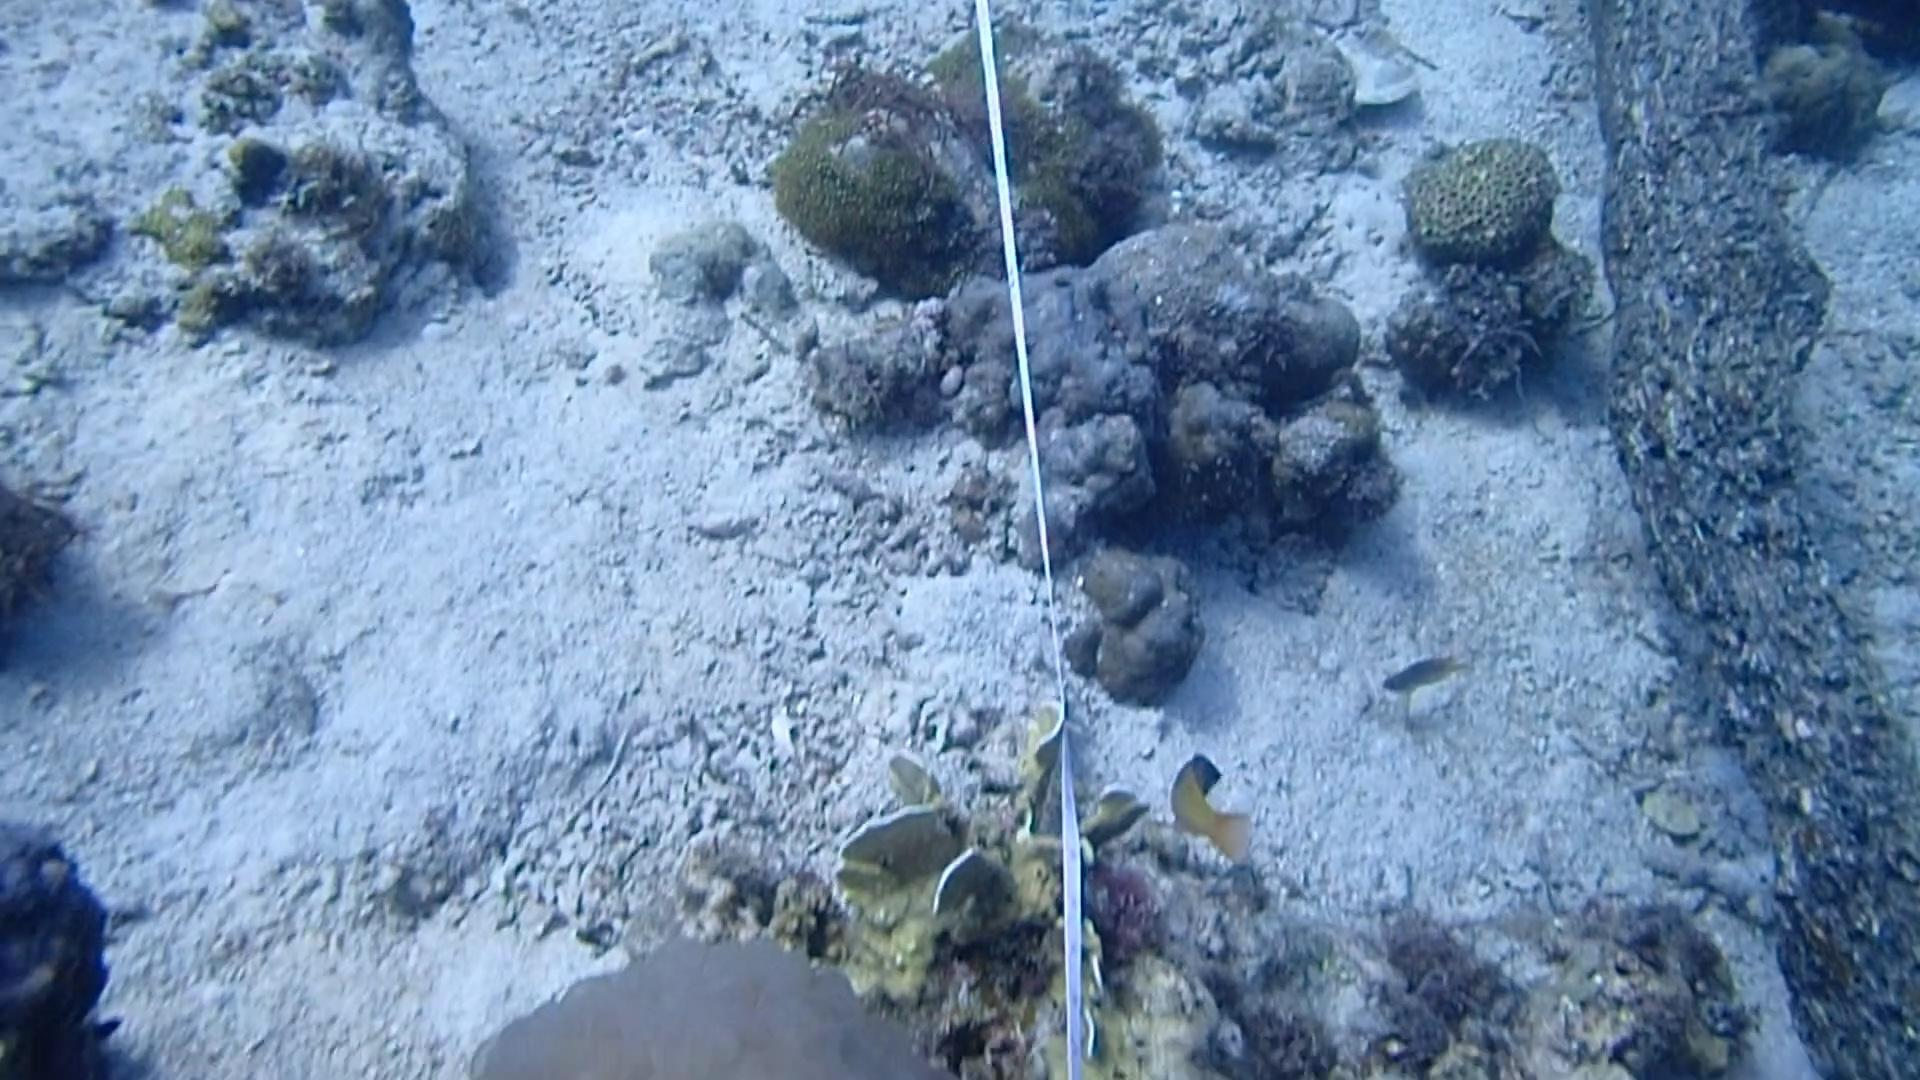Light Fish: (1367, 644, 1476, 712)
Yellow-Blue Fish: (1131, 744, 1280, 872)
